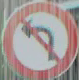Don't turn left: (7, 4, 72, 73)
